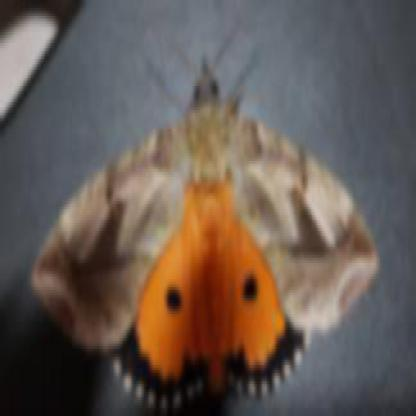fruit sucking moth: (29, 57, 380, 413)
